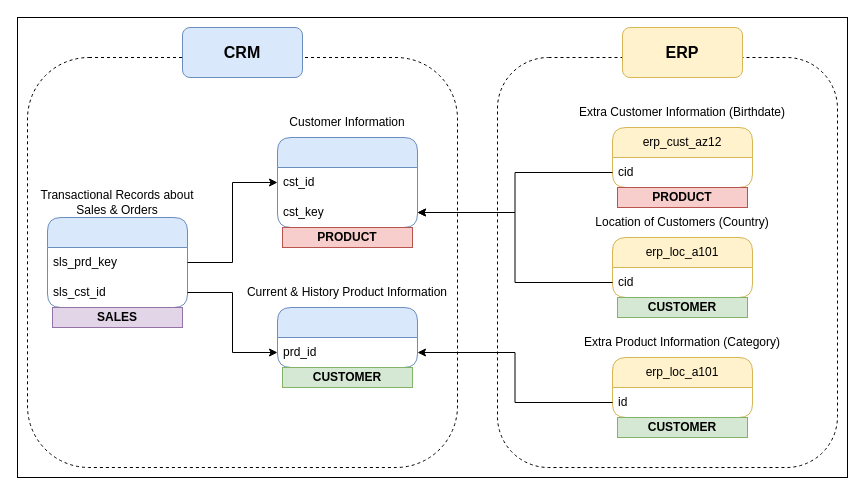
Some shapes in this 865 by 495 pixel diagram are drawn without their labels. Here are the shapes that lost their labels. From the top down, the box of each, then its label:
(276, 136, 418, 228): crm_cust_info
(46, 216, 188, 308): crm_sales_details
(276, 306, 418, 368): crm_prd_info
